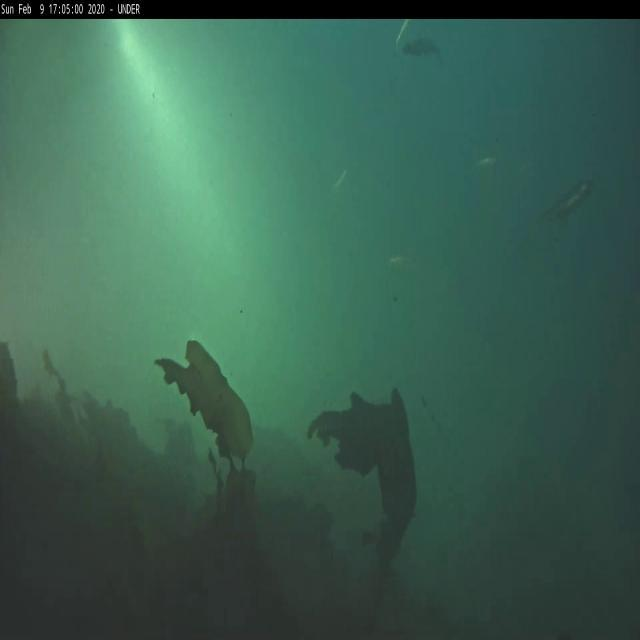fish: (544, 181, 592, 226), (404, 39, 440, 57), (394, 20, 411, 53), (385, 252, 414, 268), (331, 170, 348, 190), (478, 153, 496, 169)
